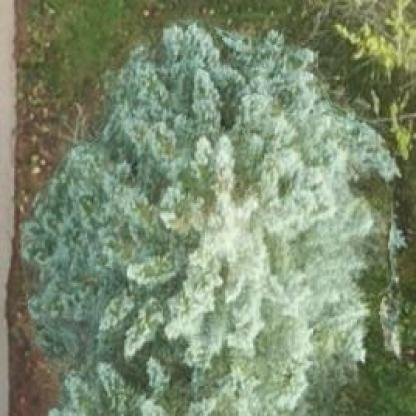Coniferous Tree: (27, 38, 394, 416), (351, 0, 416, 85)
